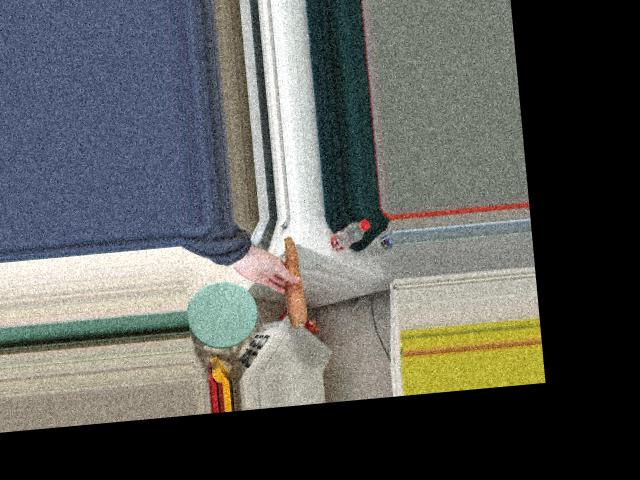sweet_potato: (272, 234, 309, 327)
